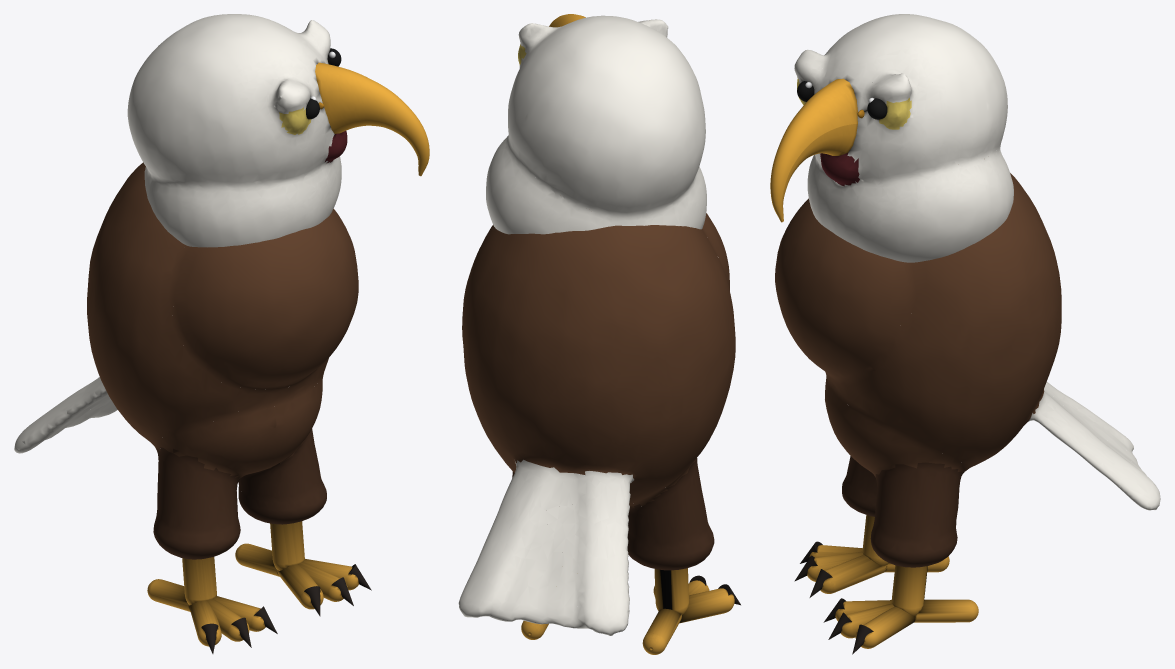
The model's file is det-beror-pa.glb.
The picture shows the model from 3 angles, left to right: view 1: azimuth 30°, elevation 25°; view 2: azimuth 150°, elevation 25°; view 3: azimuth 270°, elevation 25°; orthographic projection. The views are drawn at different scales.
Visible parts, largest first — view 1: aguia__r0, cabeca__r0, cabeca__r3, aguia__r4, aguia__r12, aguia__r5, aguia__r11, aguia__r3, aguia__r13, aguia__r7, aguia__r15, aguia__r1 (+1 smaller); view 2: aguia__r0, cabeca__r0, aguia__r12, aguia__r13, aguia__r3; view 3: aguia__r0, cabeca__r0, cabeca__r3, aguia__r4, aguia__r1, aguia__r11, aguia__r9, aguia__r7, aguia__r15.
Boxes of the visible parts, <box> form: aguia__r0: <box>14,162,358,559</box>; cabeca__r0: <box>127,14,347,247</box>; cabeca__r3: <box>315,62,429,176</box>; aguia__r4: <box>270,521,304,570</box>; aguia__r12: <box>182,557,216,605</box>; aguia__r5: <box>277,564,323,609</box>; aguia__r11: <box>235,543,279,576</box>; aguia__r3: <box>147,579,190,611</box>; aguia__r13: <box>189,601,221,646</box>; aguia__r7: <box>298,562,347,601</box>; aguia__r15: <box>207,599,249,641</box>; aguia__r1: <box>214,596,265,631</box>; aguia__r0: <box>458,213,735,635</box>; cabeca__r0: <box>486,15,706,234</box>; aguia__r12: <box>654,568,688,614</box>; aguia__r13: <box>679,588,734,623</box>; aguia__r3: <box>642,608,681,654</box>; aguia__r0: <box>775,173,1160,567</box>; cabeca__r0: <box>794,14,1013,262</box>; cabeca__r3: <box>770,78,857,222</box>; aguia__r4: <box>891,565,927,615</box>; aguia__r1: <box>820,555,885,593</box>; aguia__r11: <box>914,599,978,622</box>; aguia__r9: <box>855,606,915,648</box>; aguia__r7: <box>840,603,894,638</box>; aguia__r15: <box>807,551,885,581</box>.
Bounding box in the file's own units: 0.8012 × 1.77 × 1.08.
